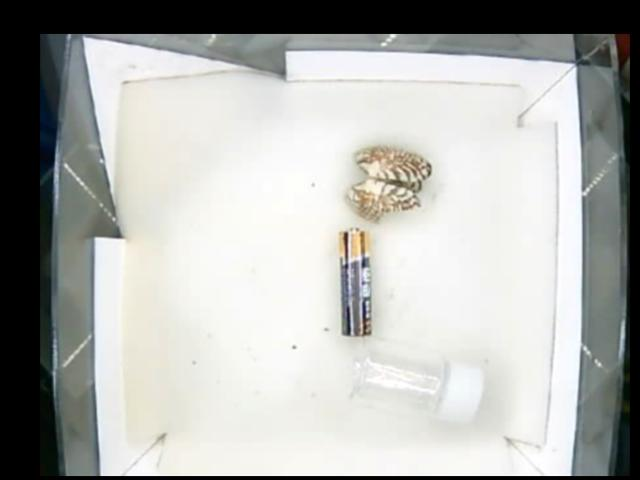Battery: (336, 229, 370, 335)
Bottle: (348, 342, 487, 424)
Shell: (346, 146, 435, 221)
